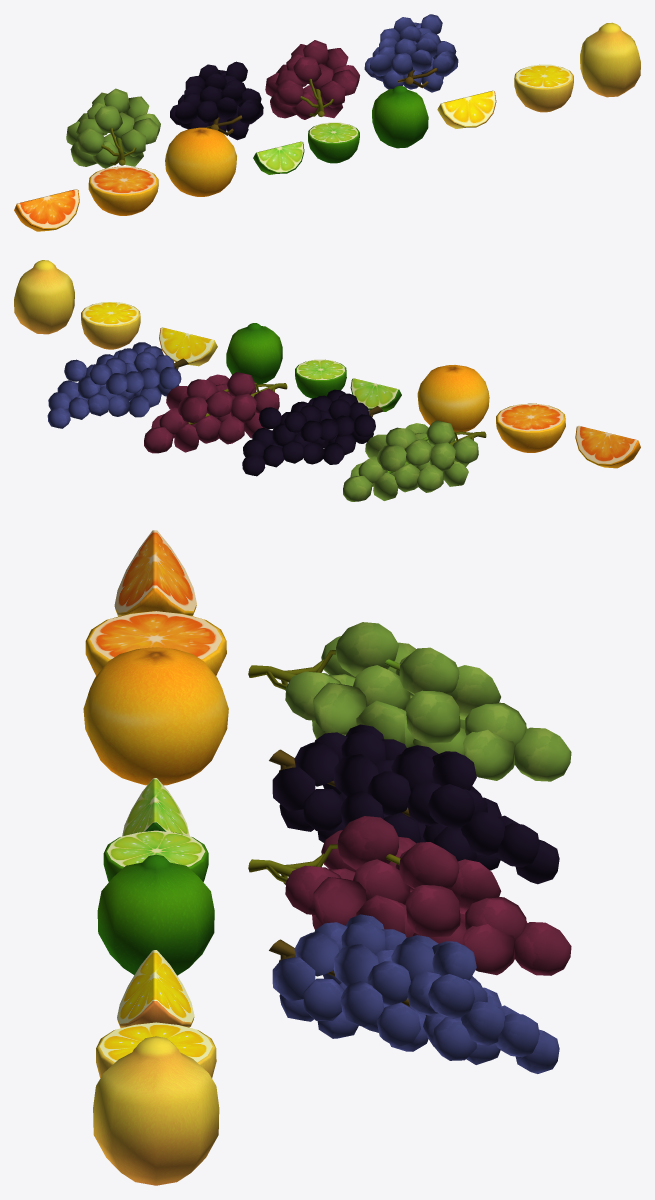
The model's file is Cartoon Grapes and Citrus.fbx.
3 views of the same model, one above another, from view 1: azimuth 30°, elevation 25°; view 2: azimuth 150°, elevation 25°; view 3: azimuth 270°, elevation 25° (orthographic). The views are drawn at different scales.
Parts seen in each view (by area): view 1: Grapes_02, Grapes_01, Grapes_04, Grapes_03, Orange, Lemon, Orange_Half, Lime, Lemon_Half, Orange_Quarter, Lime_Half, Lemon_Quarter (+1 smaller); view 2: Grapes_02, Grapes_03, Grapes_04, Grapes_01, Orange, Lemon, Orange_Half, Lime, Lemon_Half, Orange_Quarter, Lime_Half, Lemon_Quarter (+1 smaller); view 3: Grapes_04, Grapes_02, Grapes_01, Grapes_03, Orange, Lemon, Lime, Orange_Half, Orange_Quarter, Lemon_Quarter, Lime_Half, Lemon_Half (+1 smaller).
Part boxes in pixels (box(x1,y1,x2,y2)): Grapes_02: box(66, 88, 160, 168); Grapes_01: box(265, 40, 359, 119); Grapes_04: box(364, 14, 458, 92); Grapes_03: box(170, 61, 263, 140); Orange: box(165, 127, 236, 196); Lemon: box(580, 22, 640, 97); Orange_Half: box(88, 166, 158, 215); Lime: box(372, 85, 428, 148); Lemon_Half: box(514, 64, 573, 112); Orange_Quarter: box(14, 189, 79, 231); Lime_Half: box(308, 122, 359, 163); Lemon_Quarter: box(437, 90, 496, 128); Grapes_02: box(343, 420, 486, 501); Grapes_03: box(242, 389, 383, 476); Grapes_04: box(47, 342, 188, 428); Grapes_01: box(144, 372, 287, 453); Orange: box(417, 365, 489, 432); Lemon: box(14, 260, 74, 334); Orange_Half: box(496, 403, 565, 452); Lime: box(226, 323, 282, 384); Lemon_Half: box(81, 302, 140, 349); Orange_Quarter: box(575, 426, 640, 468); Lime_Half: box(295, 359, 346, 398); Lemon_Quarter: box(159, 327, 217, 366); Grapes_04: box(269, 914, 559, 1073); Grapes_02: box(248, 622, 571, 781); Grapes_01: box(248, 816, 571, 975); Grapes_03: box(269, 724, 559, 884); Orange: box(83, 647, 228, 785); Lemon: box(93, 1036, 219, 1185); Lime: box(97, 854, 214, 975); Orange_Half: box(85, 611, 226, 675); Orange_Quarter: box(114, 530, 196, 616); Lemon_Quarter: box(117, 950, 194, 1027); Lime_Half: box(103, 830, 208, 881); Lemon_Half: box(96, 1022, 216, 1077).
Bounding box in the file's own units: 281 × 30.6 × 95.58.
Materials: 3 (3 with a texture image).
